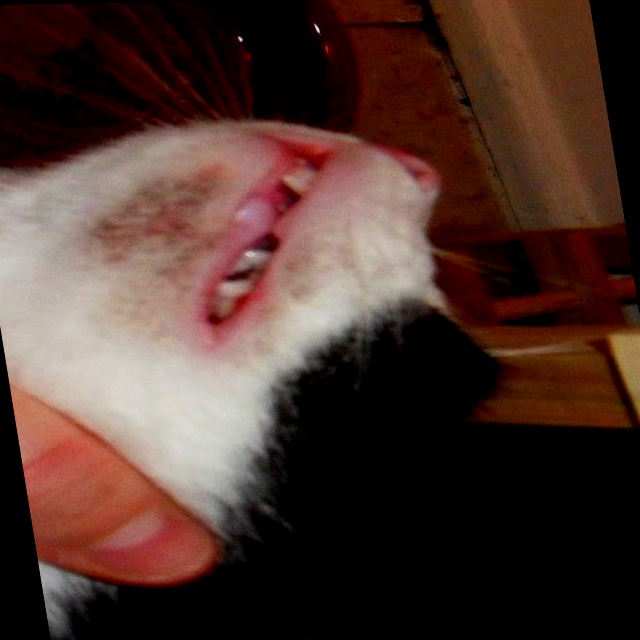acne: (77, 161, 250, 289)
